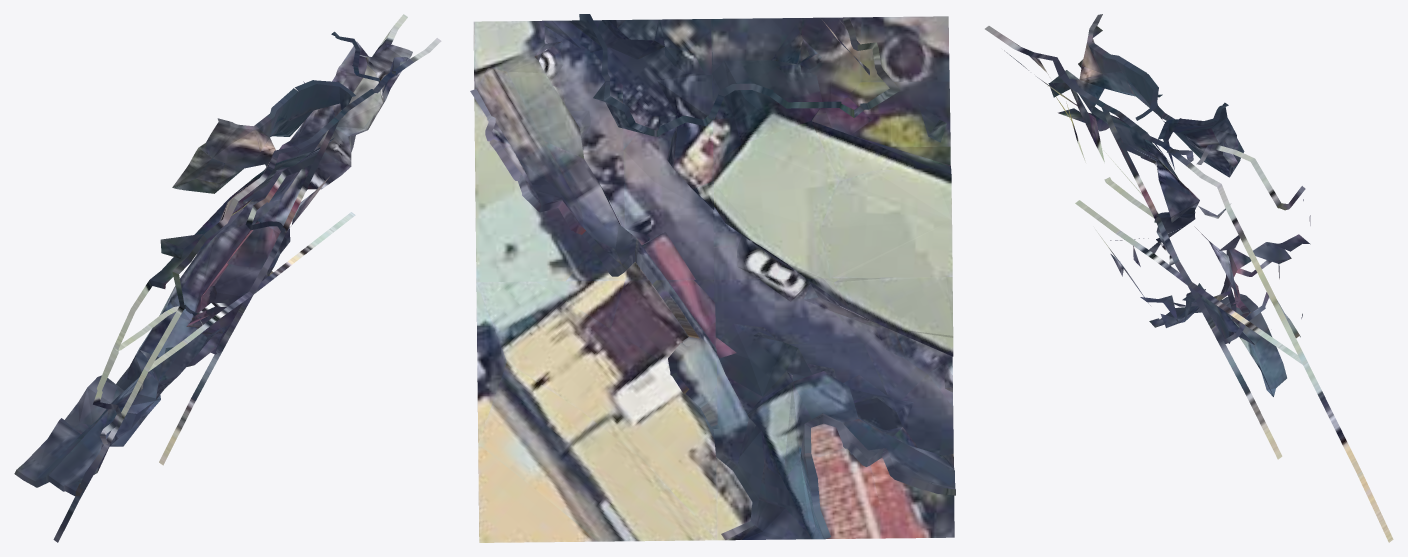
3 renders of one model, left to right at view 1: azimuth 30°, elevation 25°; view 2: azimuth 150°, elevation 25°; view 3: azimuth 270°, elevation 25°, orthographic. The views are drawn at different scales.
Bounding box in the file's own units: 40.29 × 37.71 × 32.07.
Materials: 2 (2 with a texture image).
